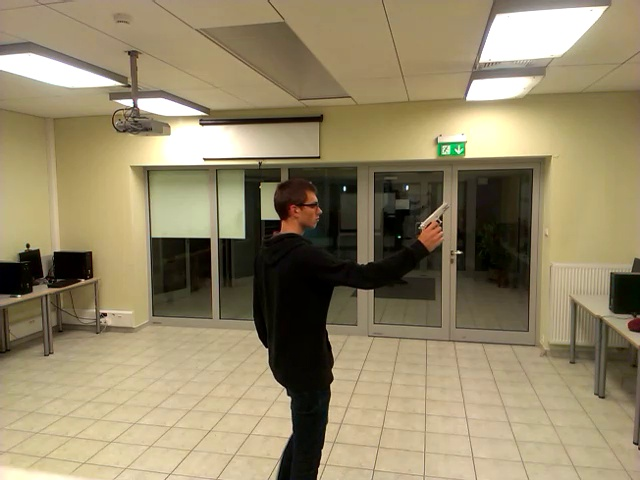gun: (411, 192, 462, 242)
